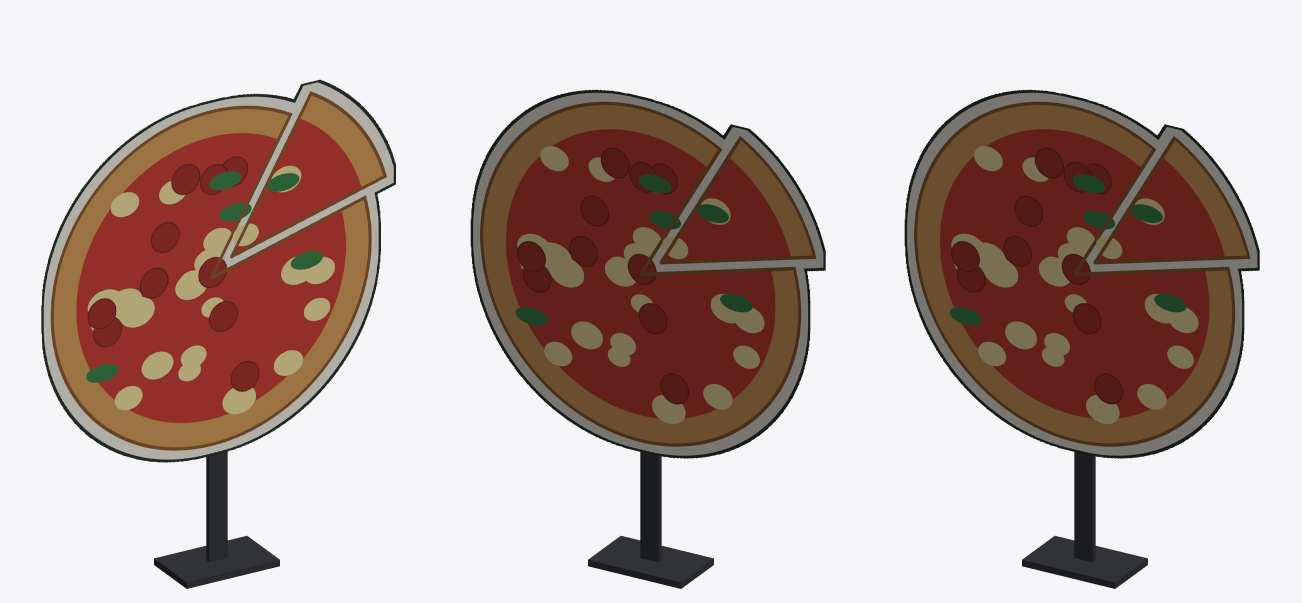
The model's file is lwf_food_van_sign_pizza_v1.glb.
The picture shows the model from 3 angles, left to right: view 1: azimuth 30°, elevation 25°; view 2: azimuth 150°, elevation 25°; view 3: azimuth 330°, elevation 25°; orthographic projection.
Parts seen in each view (by area): view 1: LWF_FoodVan_Sign_Pizza; view 2: LWF_FoodVan_Sign_Pizza; view 3: LWF_FoodVan_Sign_Pizza.
Part boxes in pixels (<box>): LWF_FoodVan_Sign_Pizza: <box>41,79,395,588</box>; LWF_FoodVan_Sign_Pizza: <box>470,89,825,588</box>; LWF_FoodVan_Sign_Pizza: <box>904,89,1259,588</box>.
Size of the model in its own units: 1.55 by 1.85 by 0.22.
Materials: 2 (1 with a texture image).
